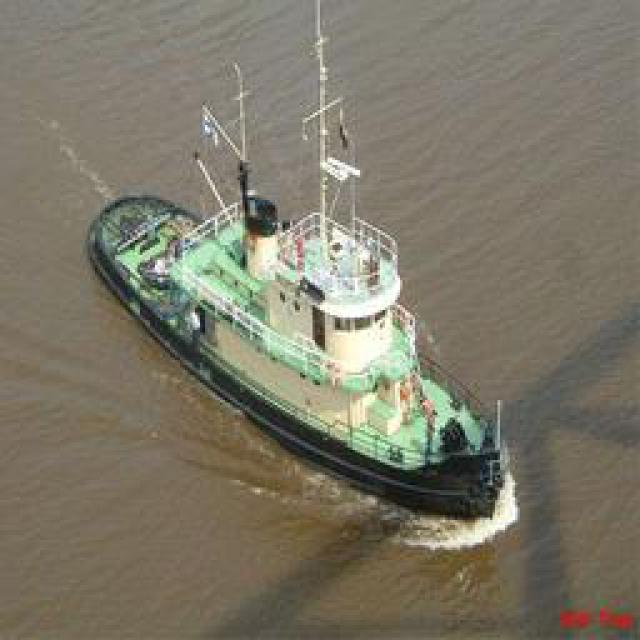Ship: (76, 60, 519, 518)
